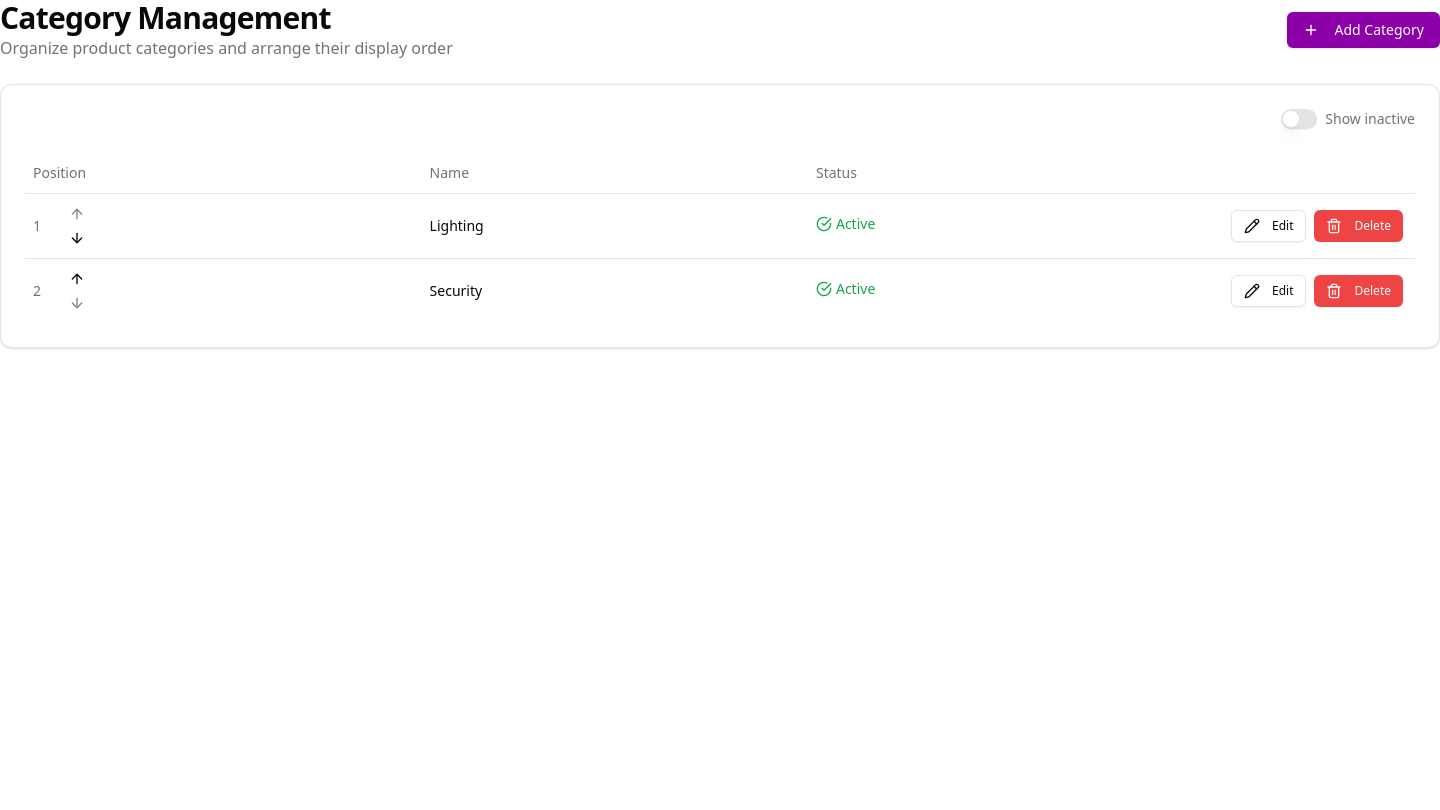
Test: CategoryManagement › opens create modal when add category clicked
Click the button "Add Category": coordinates (1363, 30) x1=1286 y1=12 x2=1439 y2=48
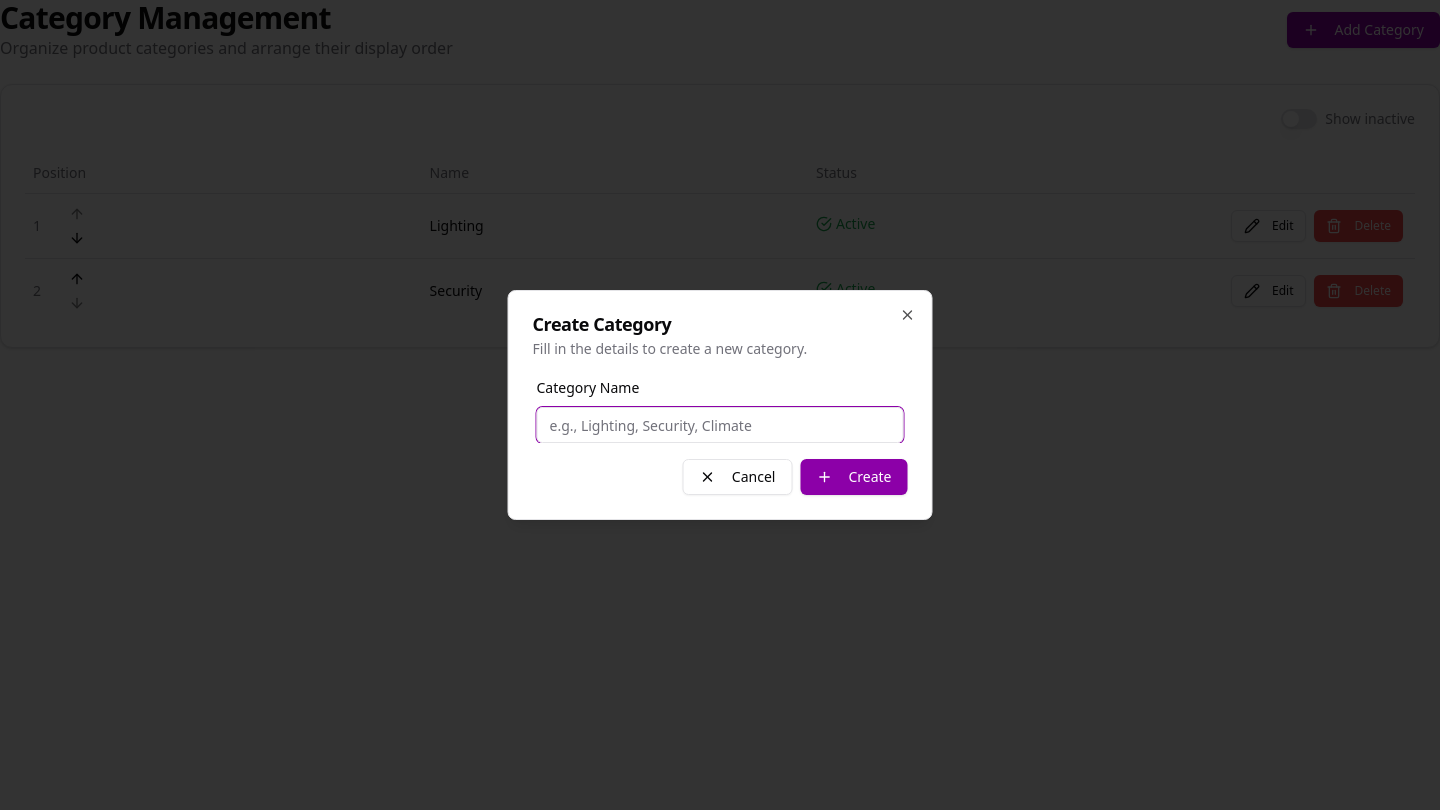
Expected: the dialog is shown, x1=508 y1=290 x2=932 y2=520
Expected: the text "Create Category" is shown, x1=532 y1=312 x2=671 y2=336
